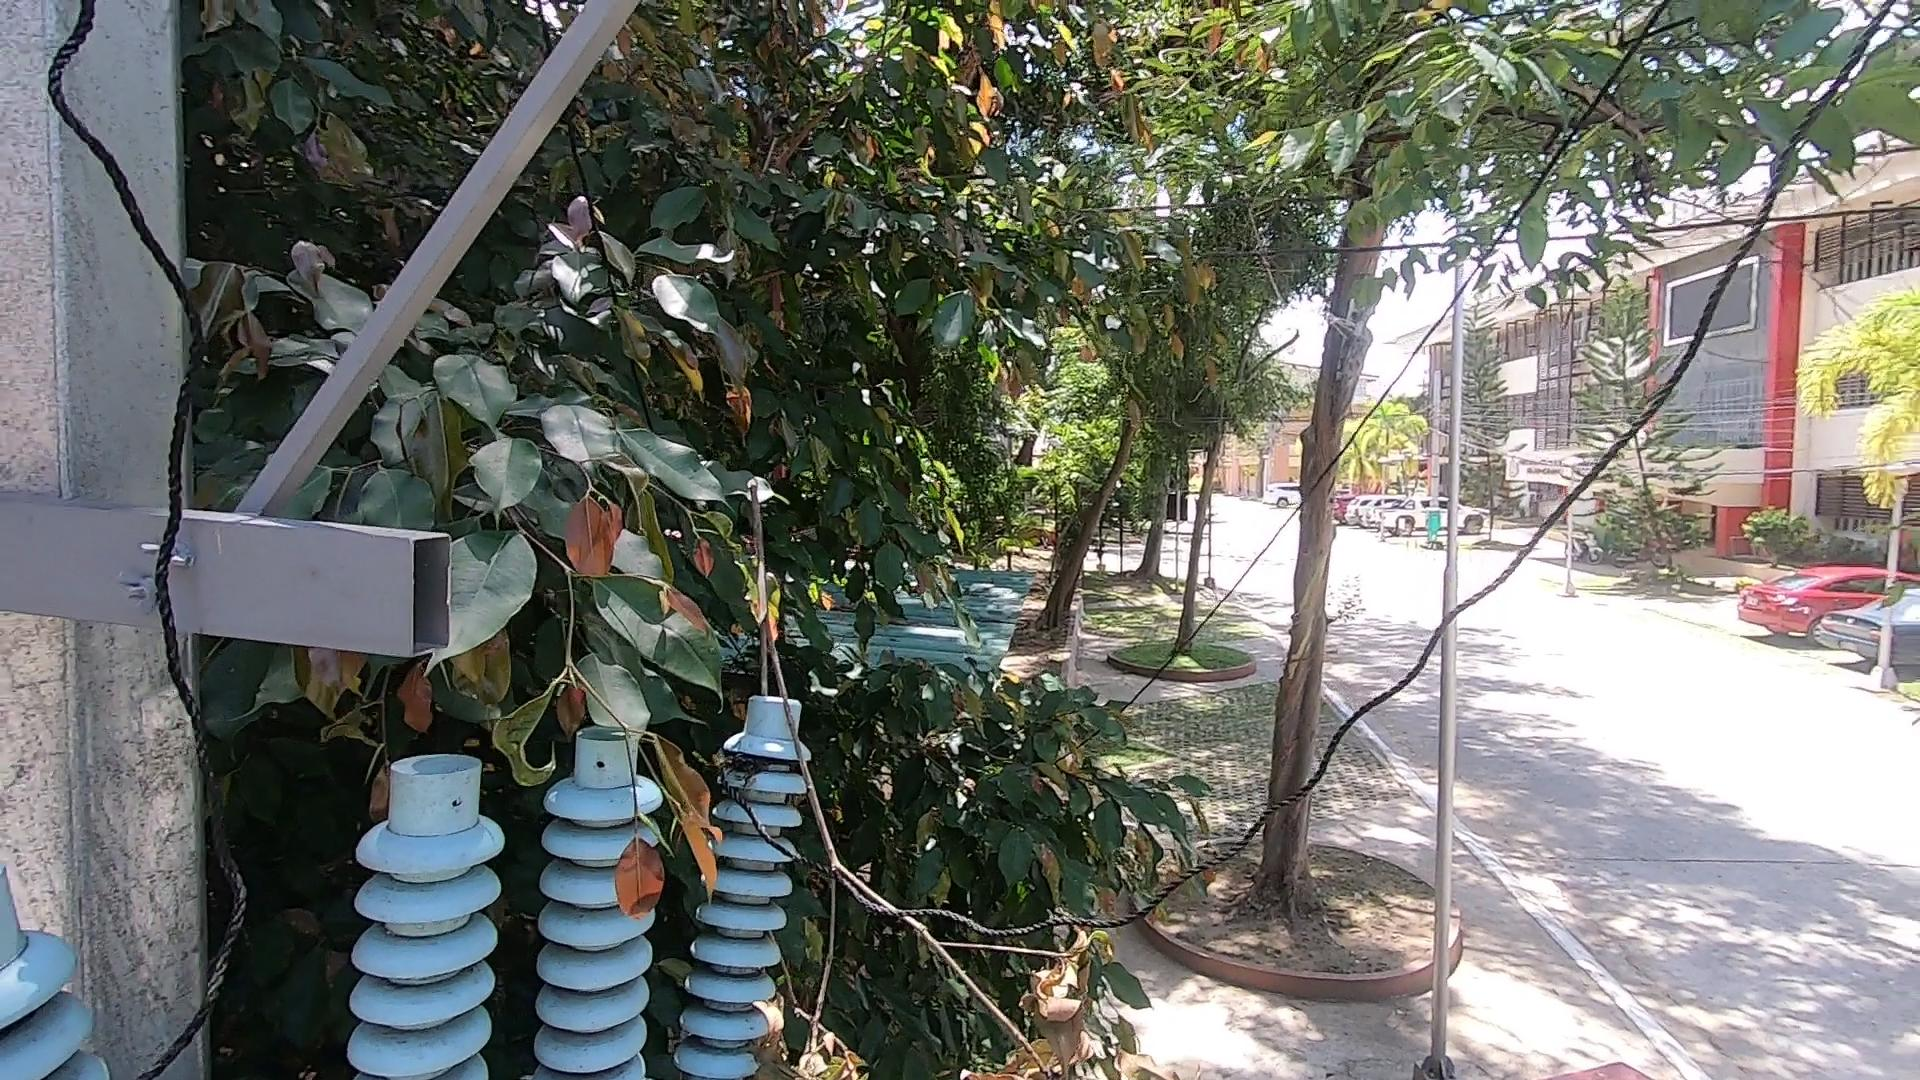branch with leaves: (727, 477, 1176, 1080)
